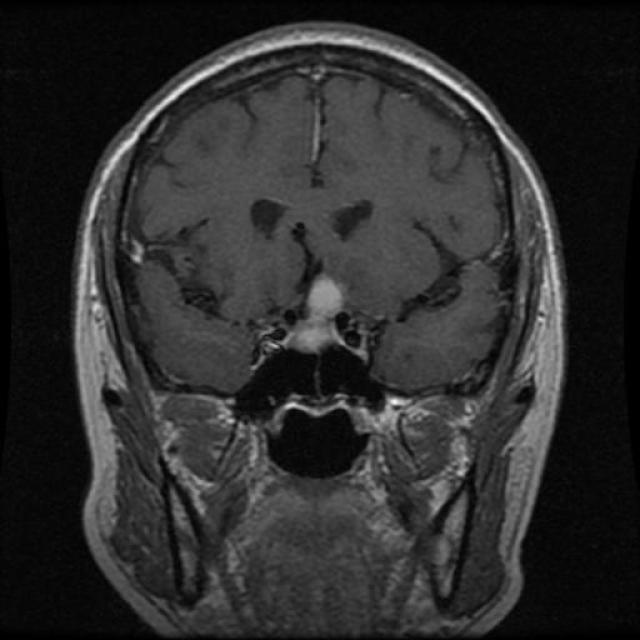pituitary: (288, 274, 350, 360)
